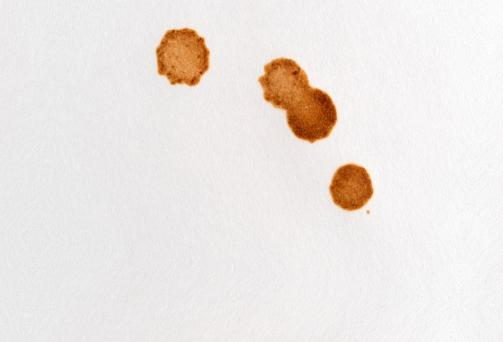stain: (258, 56, 339, 150), (155, 22, 220, 94), (327, 162, 375, 213)
